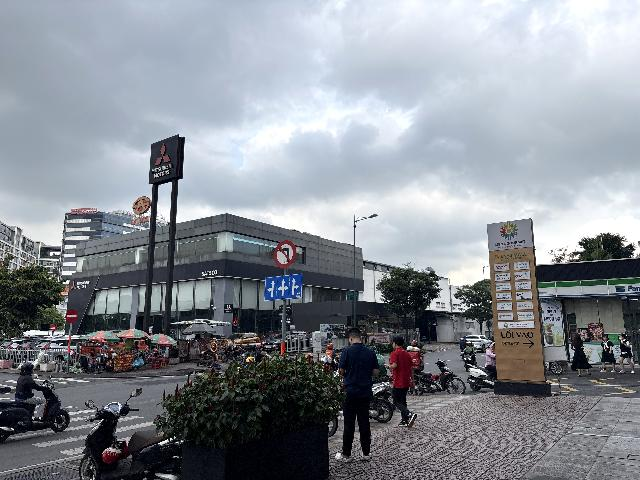cam-di-nguoc-chieu: (65, 308, 78, 323)
cam-re-trai: (274, 240, 297, 268)
